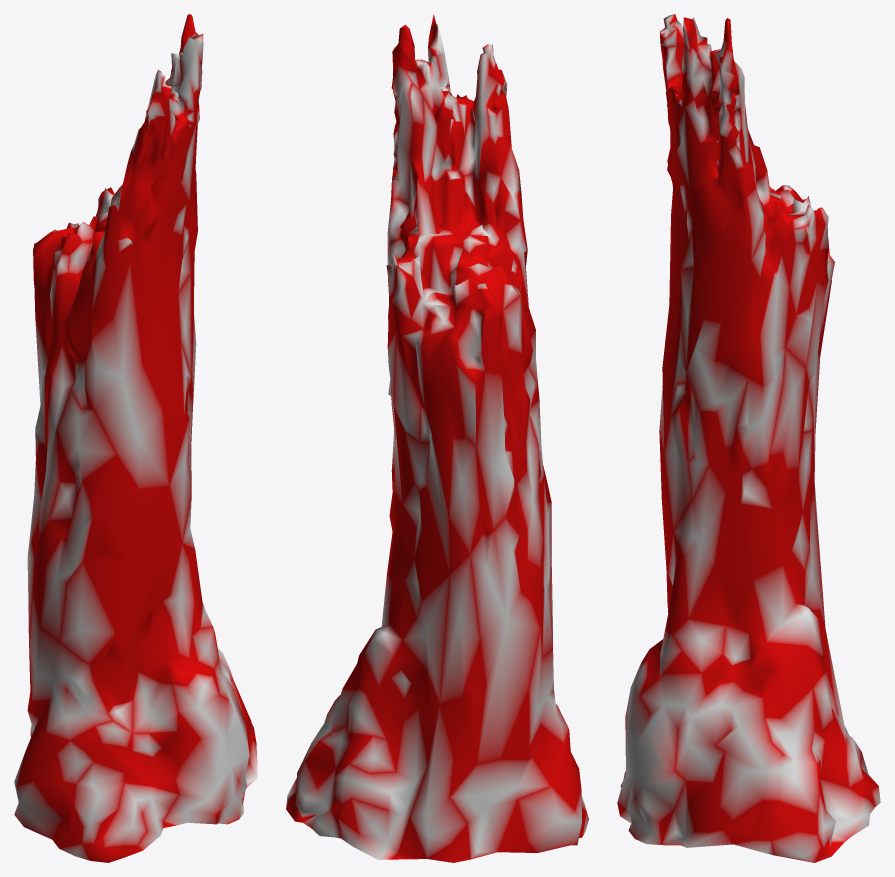
Rendered from Tree1.fbx.
3 views of the same model, side by side, from view 1: azimuth 30°, elevation 25°; view 2: azimuth 150°, elevation 25°; view 3: azimuth 270°, elevation 25° (orthographic). The views are drawn at different scales.
Parts seen in each view (by area): view 1: SM_TreeStump01.mo; view 2: SM_TreeStump01.mo; view 3: SM_TreeStump01.mo.
Part boxes in pixels (<box>): SM_TreeStump01.mo: <box>14,14,257,862</box>; SM_TreeStump01.mo: <box>286,14,588,862</box>; SM_TreeStump01.mo: <box>617,14,880,862</box>.
Size of the model in its own units: 79.04 by 233 by 67.22.
